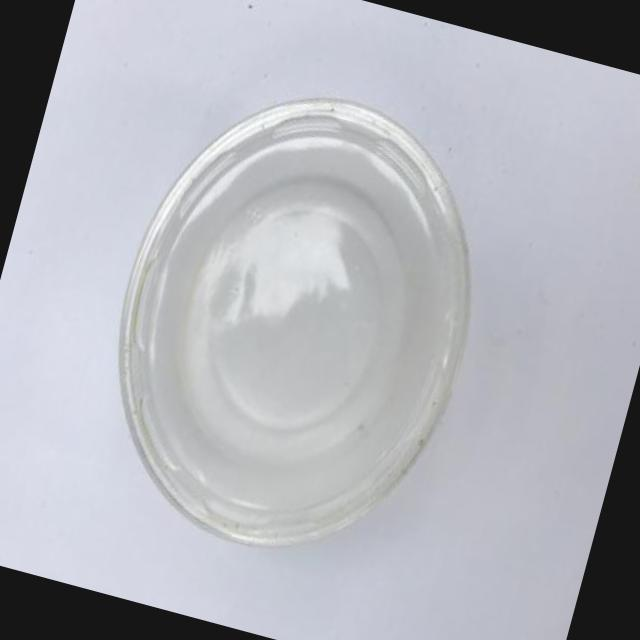Recycle: (68, 58, 526, 586)
